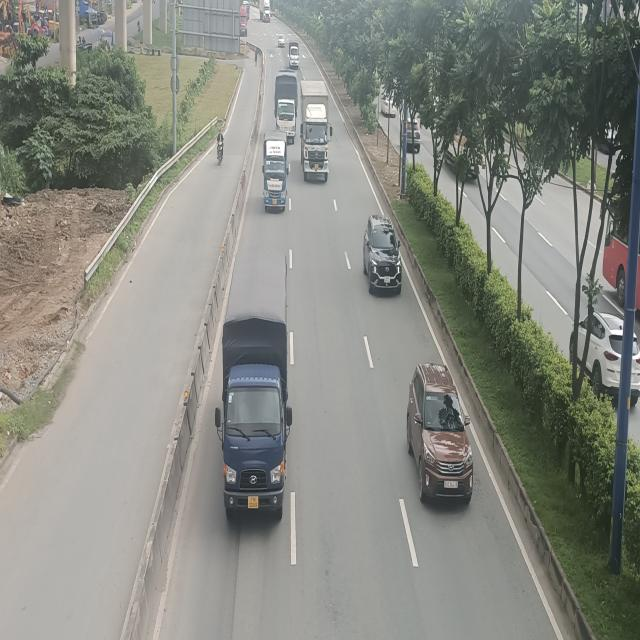car: (406, 362, 474, 508), (364, 212, 402, 292)
container: (259, 0, 271, 23)
truck: (214, 248, 292, 520), (300, 80, 333, 183), (264, 135, 290, 214), (273, 73, 298, 143), (288, 41, 300, 70)
